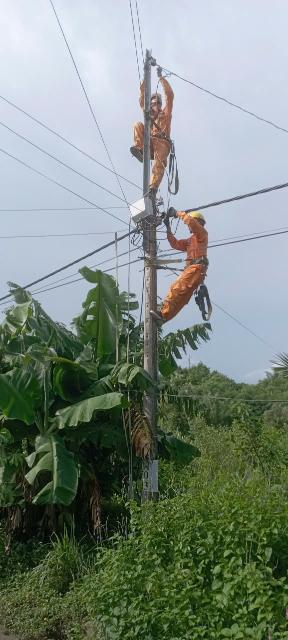gloves: (165, 204, 181, 219), (163, 214, 174, 231), (156, 65, 165, 81)
harness: (178, 254, 216, 270), (149, 126, 174, 145)
helmet: (188, 206, 211, 226), (148, 88, 166, 105)
shoes: (129, 144, 145, 163), (150, 308, 166, 327), (149, 184, 160, 194)
